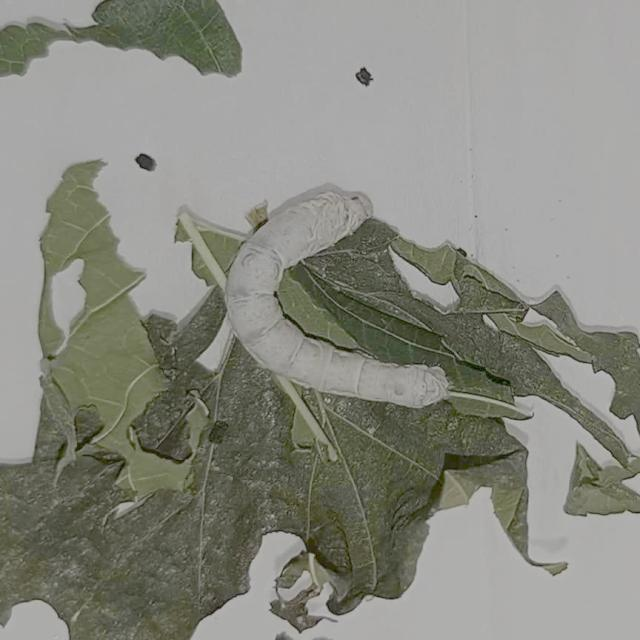Healthy: (217, 177, 456, 416)
